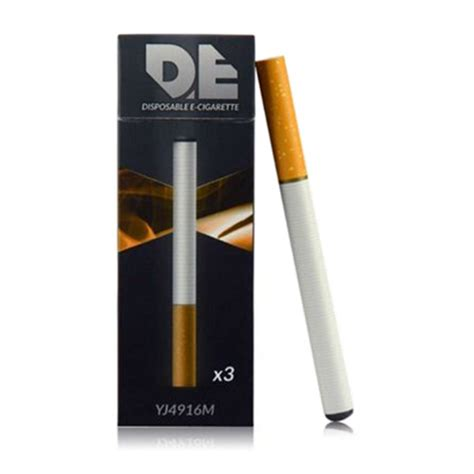cigarette: (115, 32, 256, 429), (253, 55, 357, 424), (169, 137, 200, 391)
